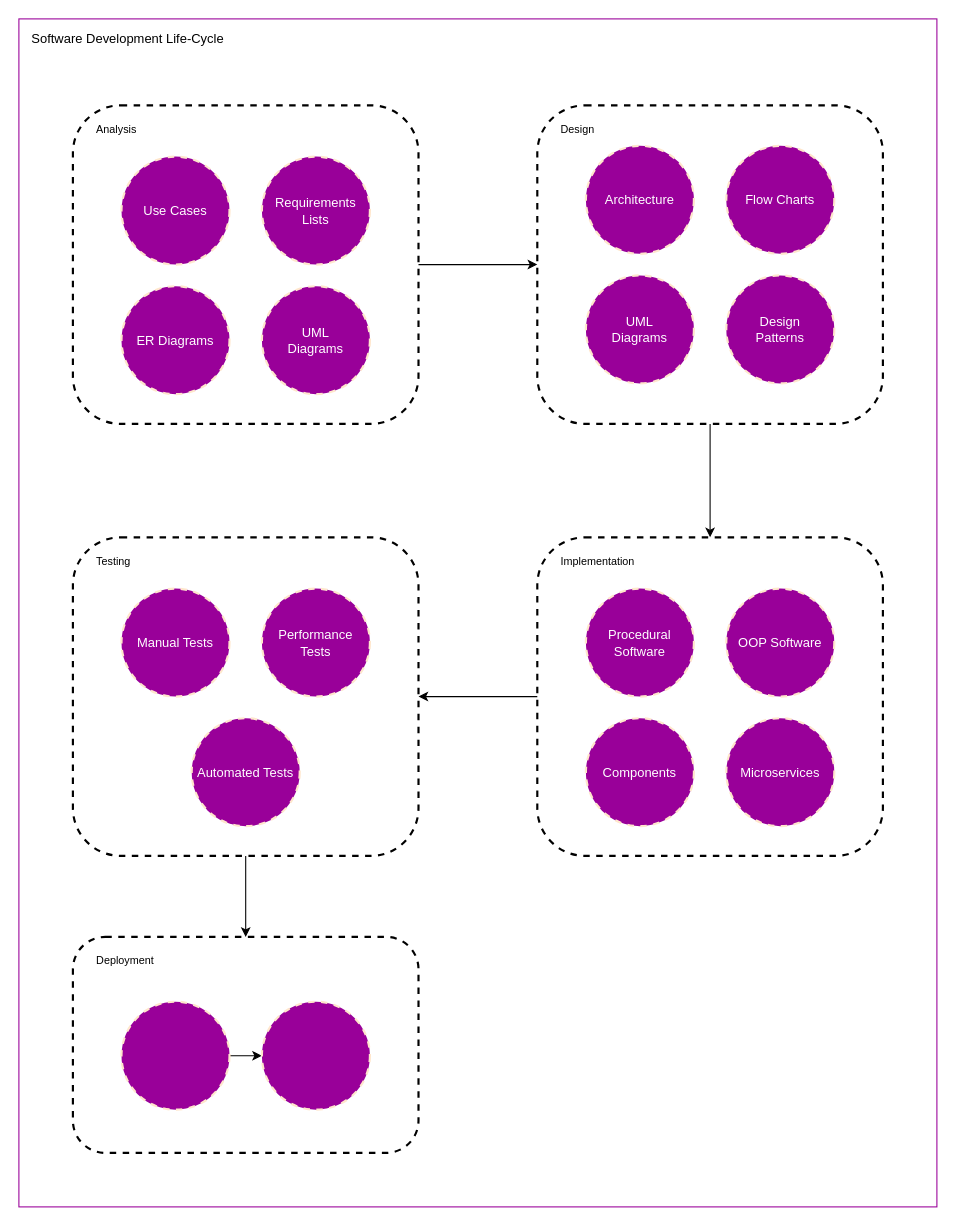
Image size: 956x1226. Some labels were removed from this diagram. The centre of each missing label's shape, as x and y in pixels:
"Delivering" goes at point 175,1055.
"Monitoring" goes at point 315,1055.
